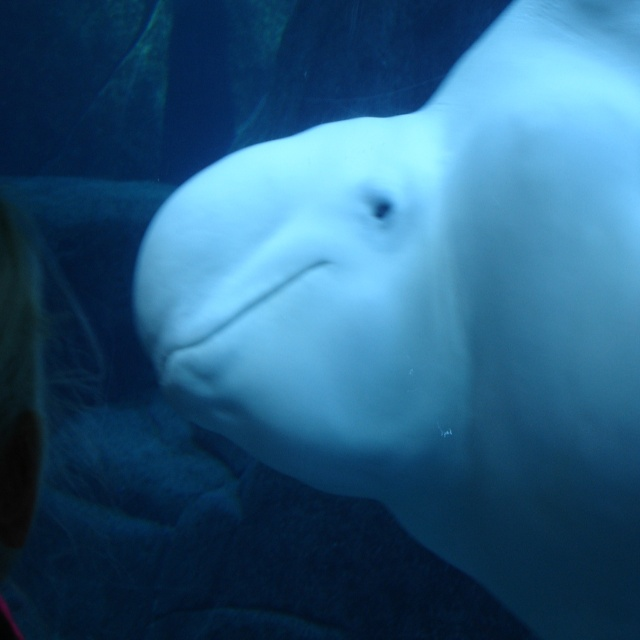Whale: (130, 0, 640, 640)
